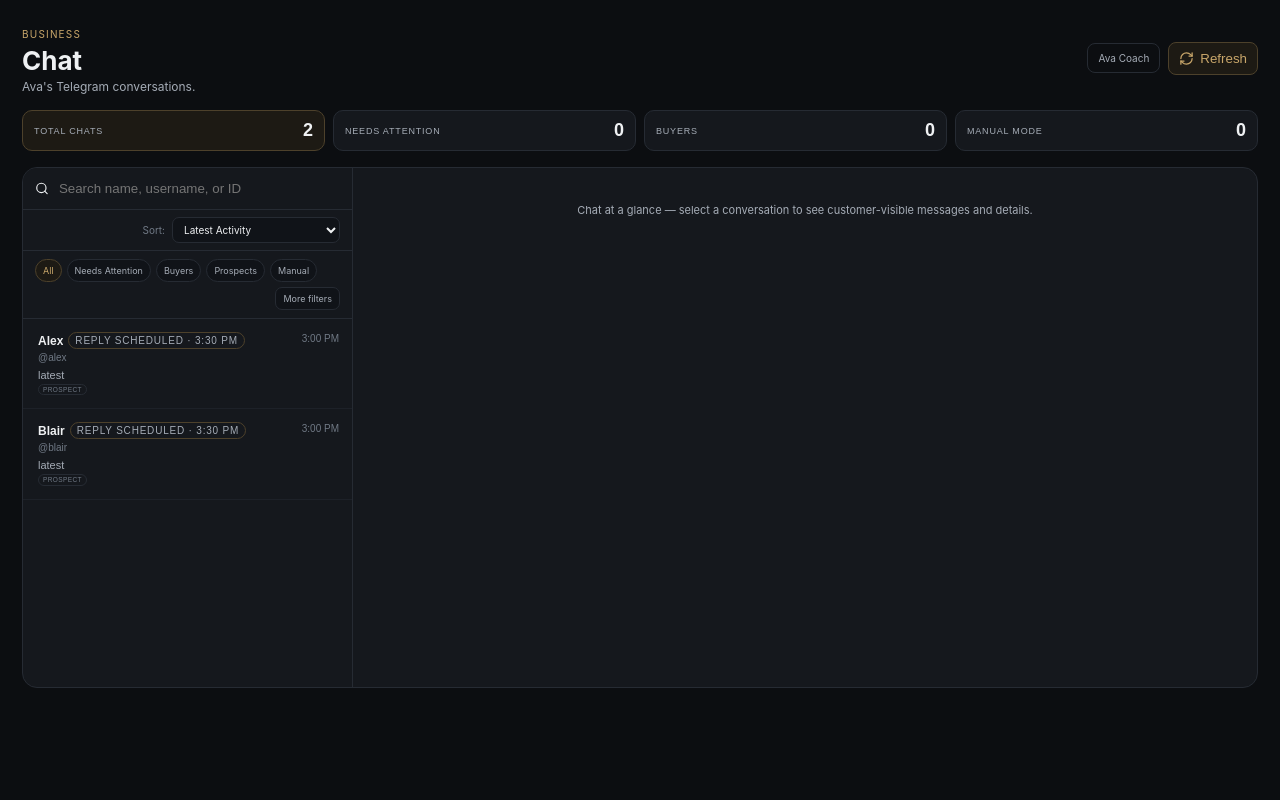
Test: opens intelligence in the drawer, preserves every field and transcript, then closes
The width and height of the screenshot is (1280, 800).
Step 1. Click the button "Alex REPLY SCHEDULED · 3:30 PM @alex latest PROSPECT 3:00 PM" → click(157, 340), box [23,319,352,410]
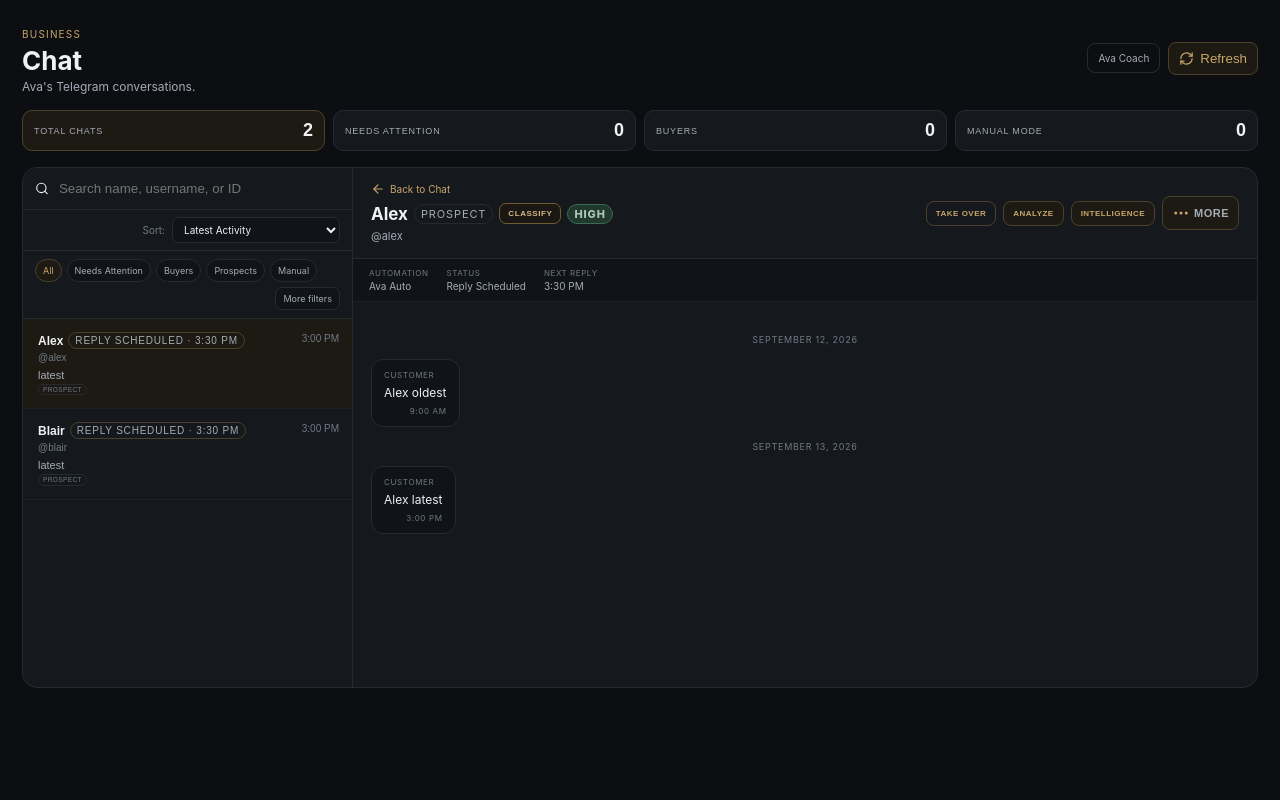
Expected: the text "Alex latest" is shown, [384,491,442,509]
Step 2. Click the button with aria-label "Open Customer Intelligence" → click(1113, 213), box [1071,200,1155,226]
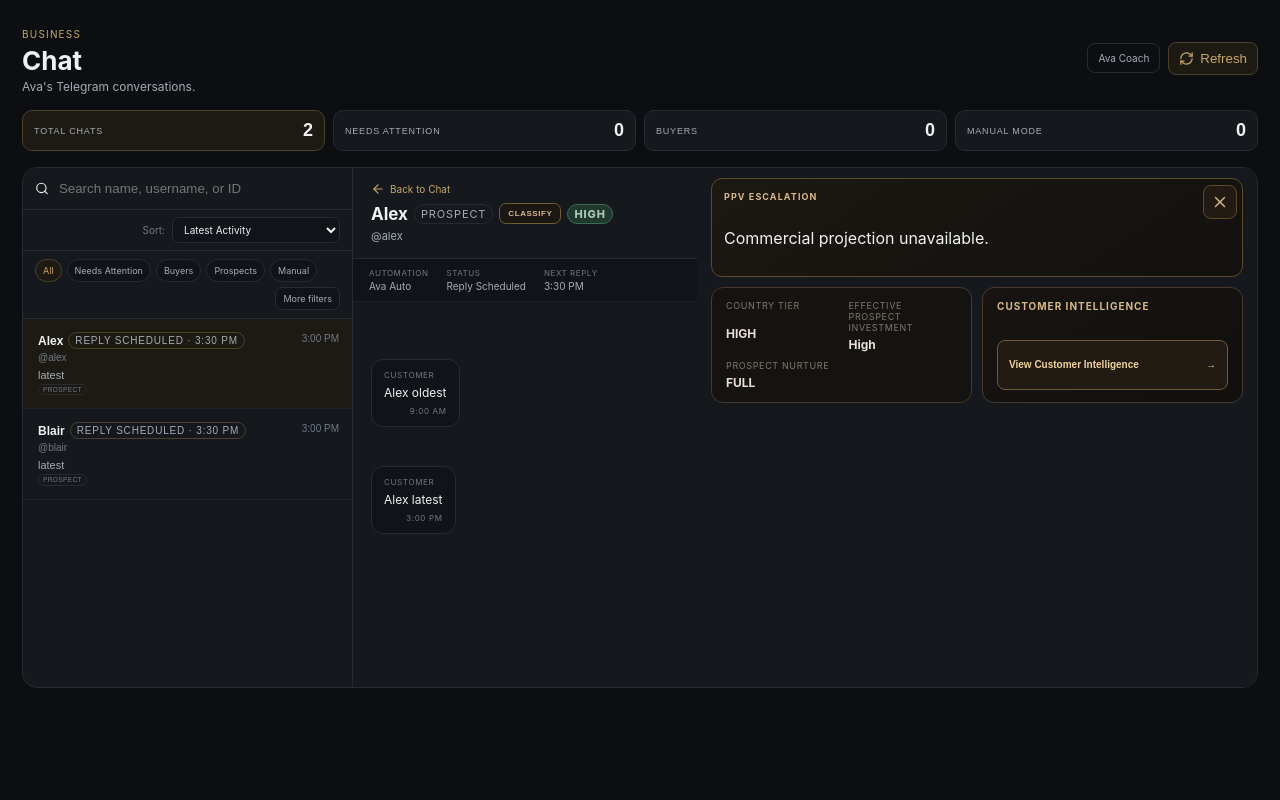
Expected: the element named "Customer Intelligence" is shown, [827,168,1257,687]
Step 3. Click the button "View Customer Intelligence →" → click(1112, 365), box [997,340,1228,390]
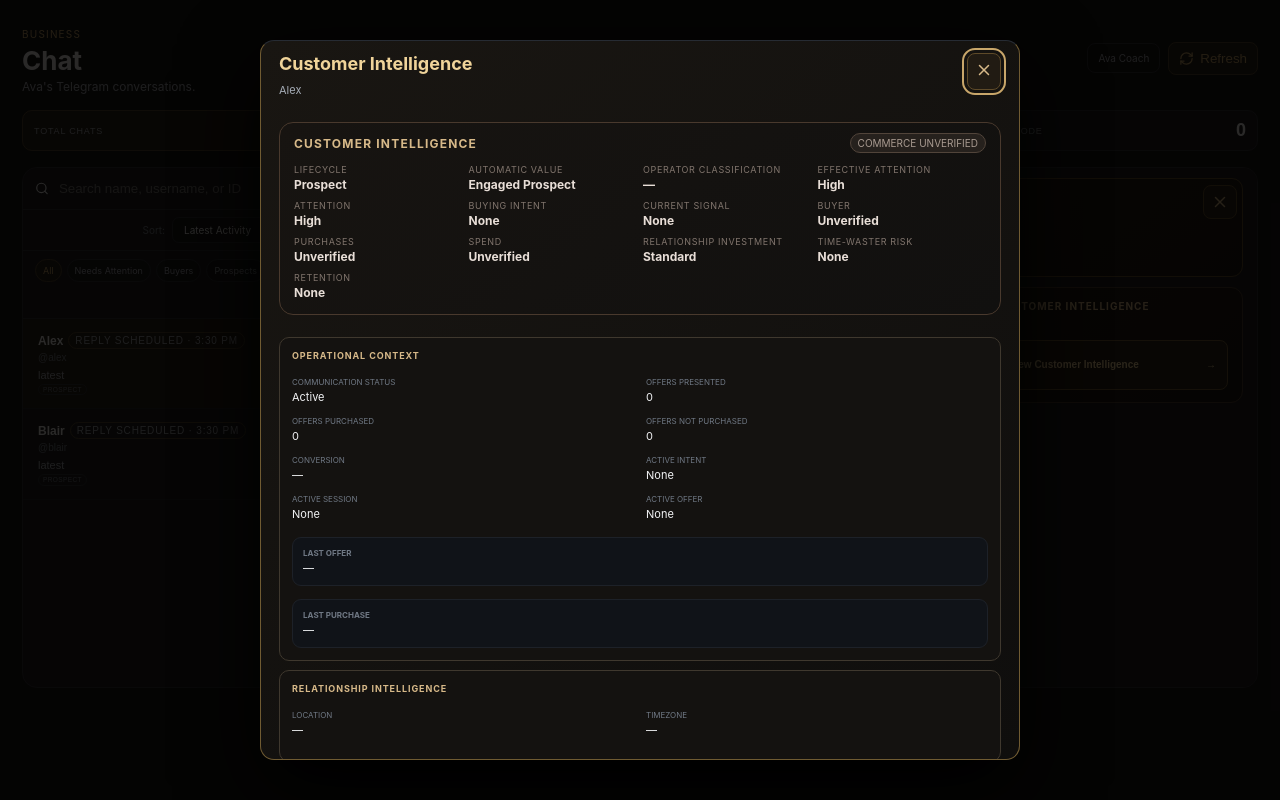
Expected: the element with class "customer-intelligence-details" shows "Automatic Value", [468,164,563,175]
Expected: the element with class "customer-intelligence-details" shows "Operator Classification", [643,164,781,175]
Expected: the element with class "customer-intelligence-details" shows "Effective Attention", [818,164,931,175]
Step 4. Click the button named "Close Customer Intelligence details" → click(984, 72), box [967,53,1001,90]
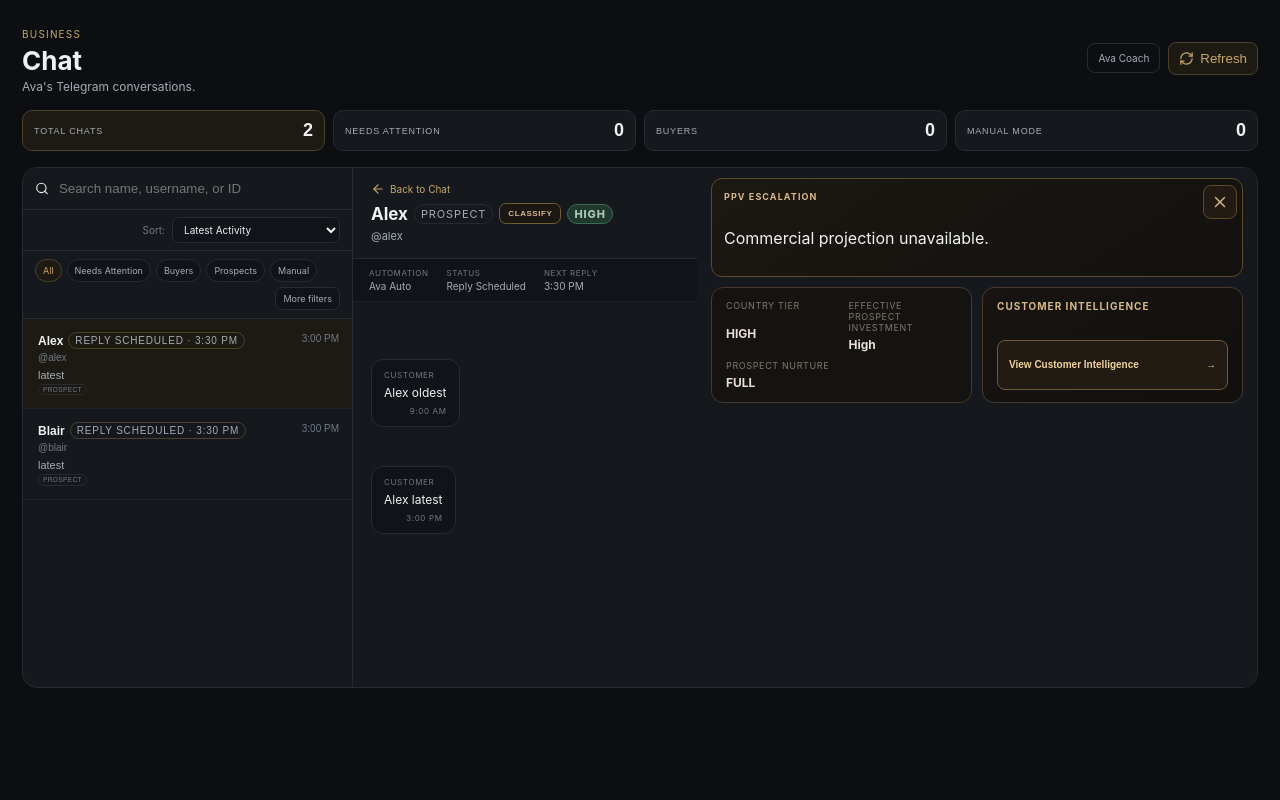
Step 5. Click the button named "Close Customer Intelligence" → click(1220, 202), box [1203,185,1237,219]
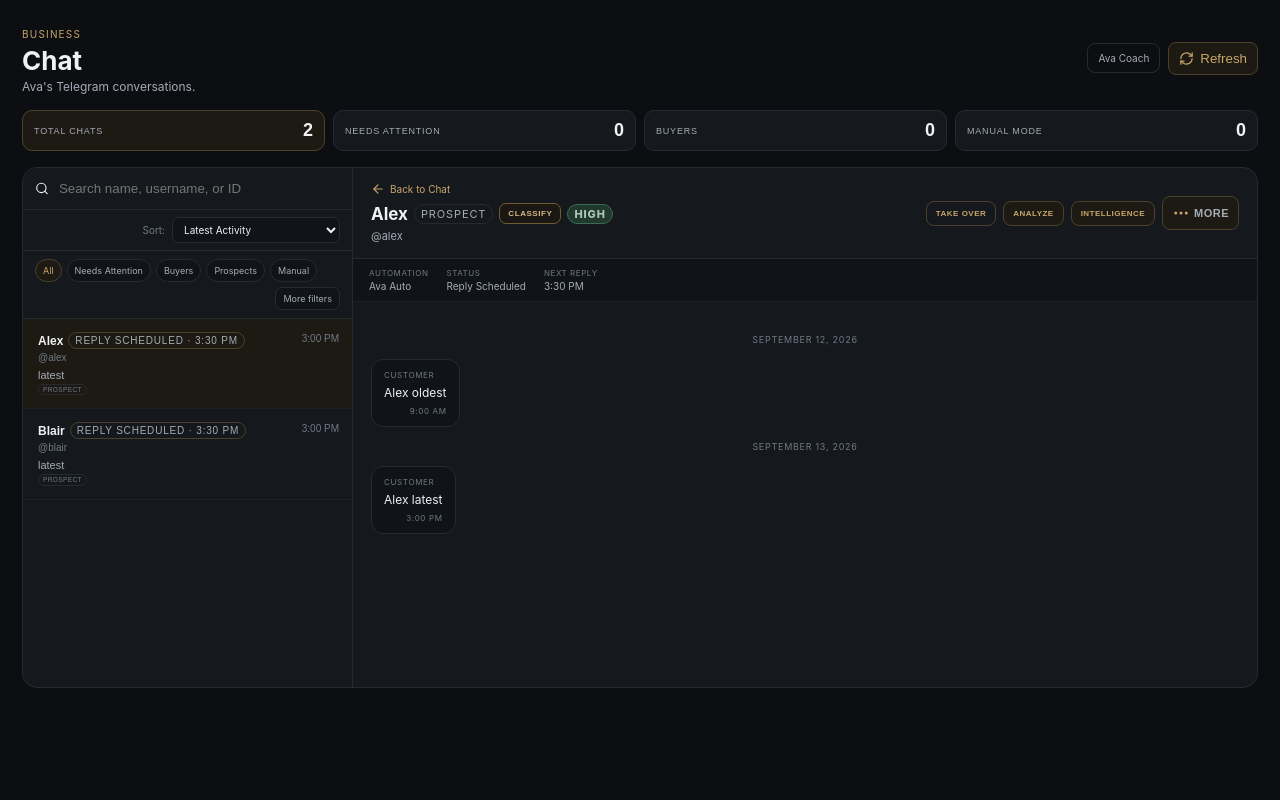
Expected: the heading "Customer Intelligence" is gone
